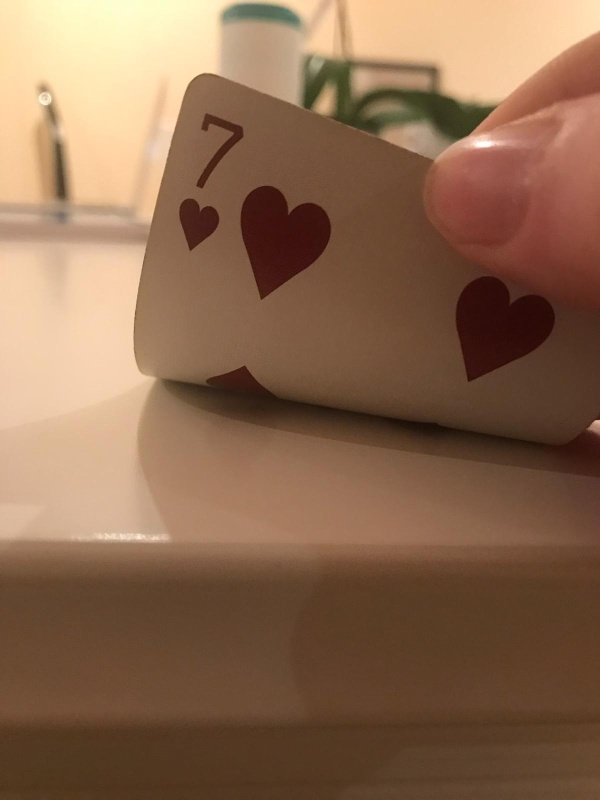H7: (177, 102, 243, 253)
